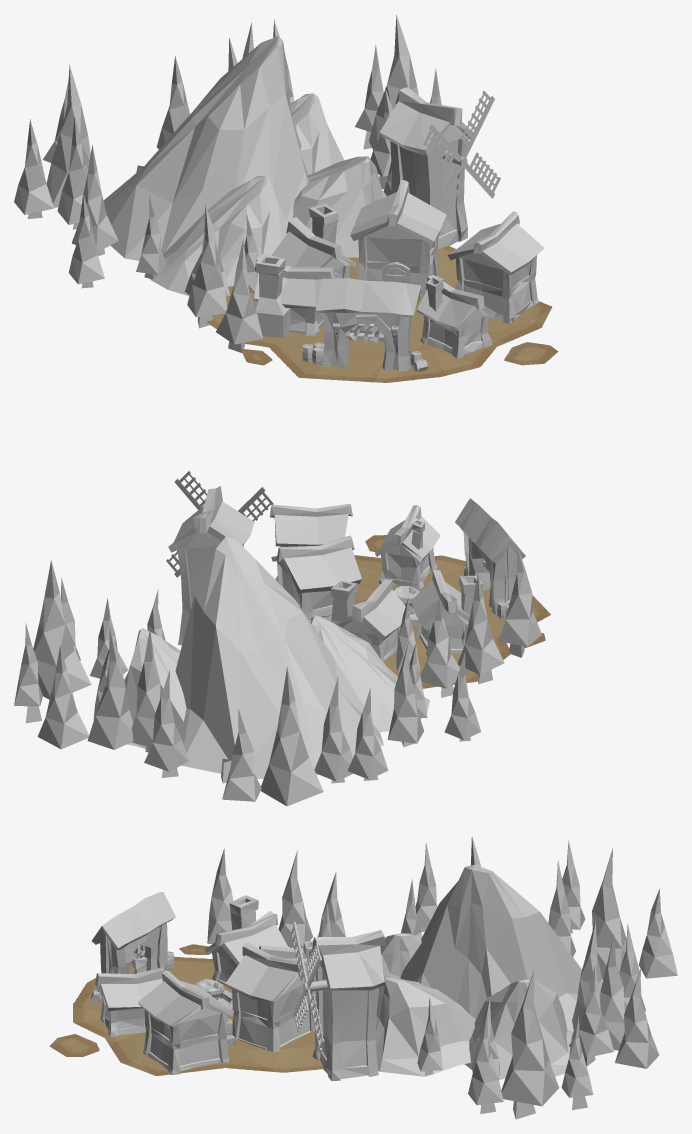
The model's file is townForest01.fbx.
The picture shows the model from 3 angles, top to bottom: view 1: azimuth 30°, elevation 25°; view 2: azimuth 150°, elevation 25°; view 3: azimuth 270°, elevation 25°; orthographic projection. The views are drawn at different scales.
Visible parts, largest first — view 1: townForest01, groundDecal, oartonWindmillBase, oartonWindMill; view 2: townForest01, oartonWindmillBase, groundDecal, oartonWindMill; view 3: townForest01, oartonWindmillBase, groundDecal, oartonWindMill.
Part boxes in pixels (x1,y1,x2,y2): townForest01: (14, 14, 544, 371); groundDecal: (206, 245, 557, 382); oartonWindmillBase: (379, 87, 473, 249); oartonWindMill: (423, 90, 500, 231); townForest01: (14, 498, 541, 806); oartonWindmillBase: (168, 486, 254, 645); groundDecal: (275, 535, 550, 688); oartonWindMill: (166, 470, 273, 577); townForest01: (91, 836, 677, 1119); oartonWindmillBase: (308, 930, 385, 1081); groundDecal: (49, 944, 323, 1075); oartonWindMill: (290, 922, 328, 1052).
Bounding box in the file's own units: 6.93 × 3.12 × 10.29.
